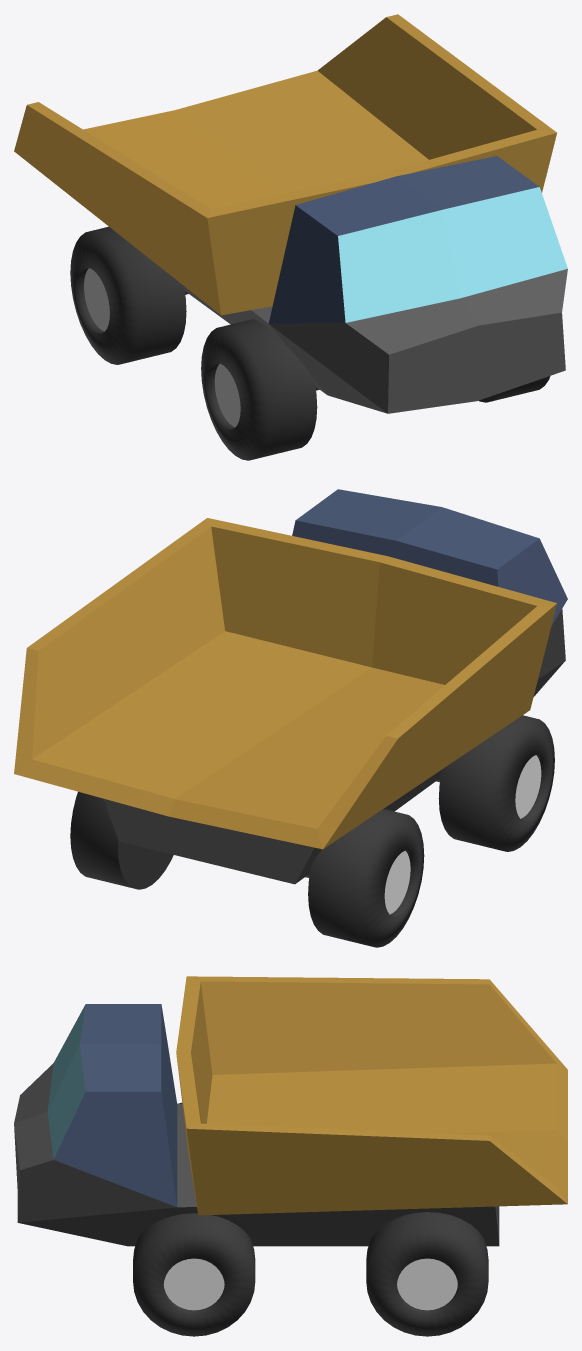
The model's file is camion.obj.
3 views of the same model, one above another, from view 1: azimuth 30°, elevation 25°; view 2: azimuth 150°, elevation 25°; view 3: azimuth 270°, elevation 25° (orthographic). The views are drawn at different scales.
Bounding box in the file's own units: 0.6248 × 0.4153 × 0.9049.
Materials: 1 (1 with a texture image).
